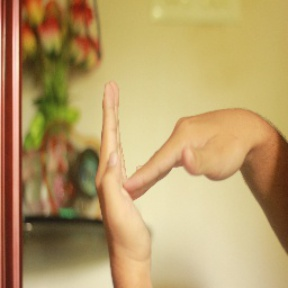Z: (85, 70, 255, 256)
